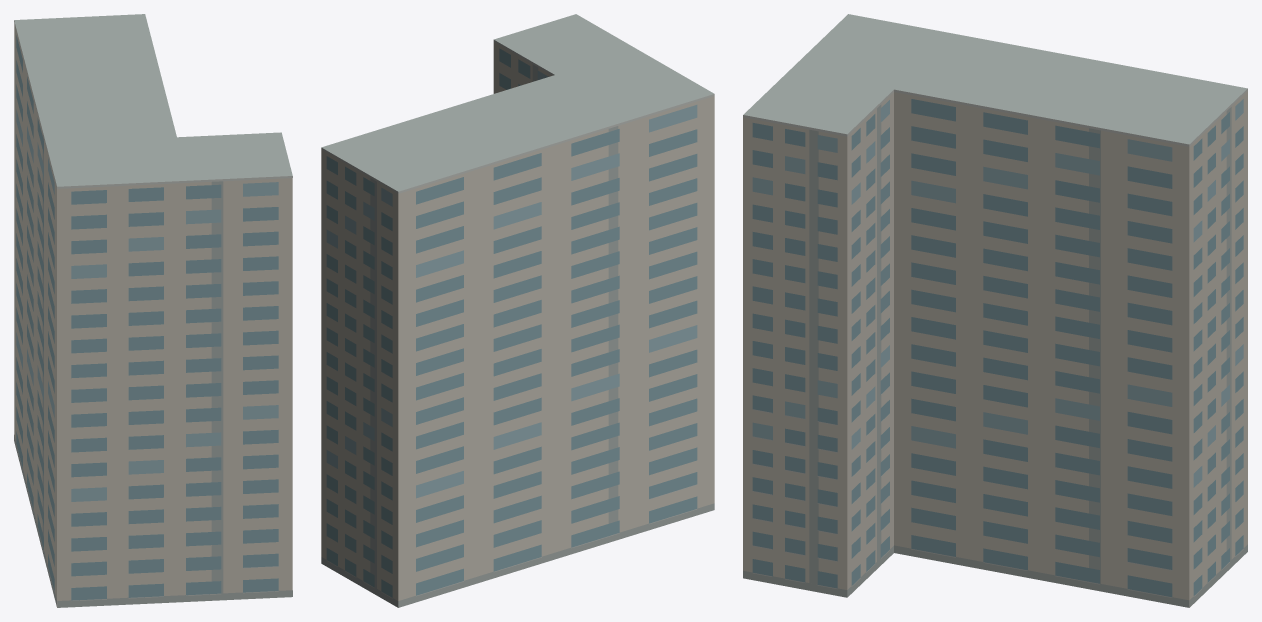
The model's file is residential-97b41ada-8c1e-4c57-8ead-c4807237650b.glb.
The picture shows the model from 3 angles, left to right: view 1: azimuth 30°, elevation 25°; view 2: azimuth 150°, elevation 25°; view 3: azimuth 270°, elevation 25°; orthographic projection. The views are drawn at different scales.
Visible parts, largest first — view 1: residential-97b41ada-8c1e-4c57-8ead-c4807237650b.tmp; view 2: residential-97b41ada-8c1e-4c57-8ead-c4807237650b.tmp; view 3: residential-97b41ada-8c1e-4c57-8ead-c4807237650b.tmp.
Boxes of the visible parts, left/top/right/bottom form: residential-97b41ada-8c1e-4c57-8ead-c4807237650b.tmp: left=14, top=14, right=292, bottom=607; residential-97b41ada-8c1e-4c57-8ead-c4807237650b.tmp: left=321, top=14, right=714, bottom=607; residential-97b41ada-8c1e-4c57-8ead-c4807237650b.tmp: left=743, top=14, right=1247, bottom=607.
Size of the model in its own units: 28.4 by 47 by 46.4.
